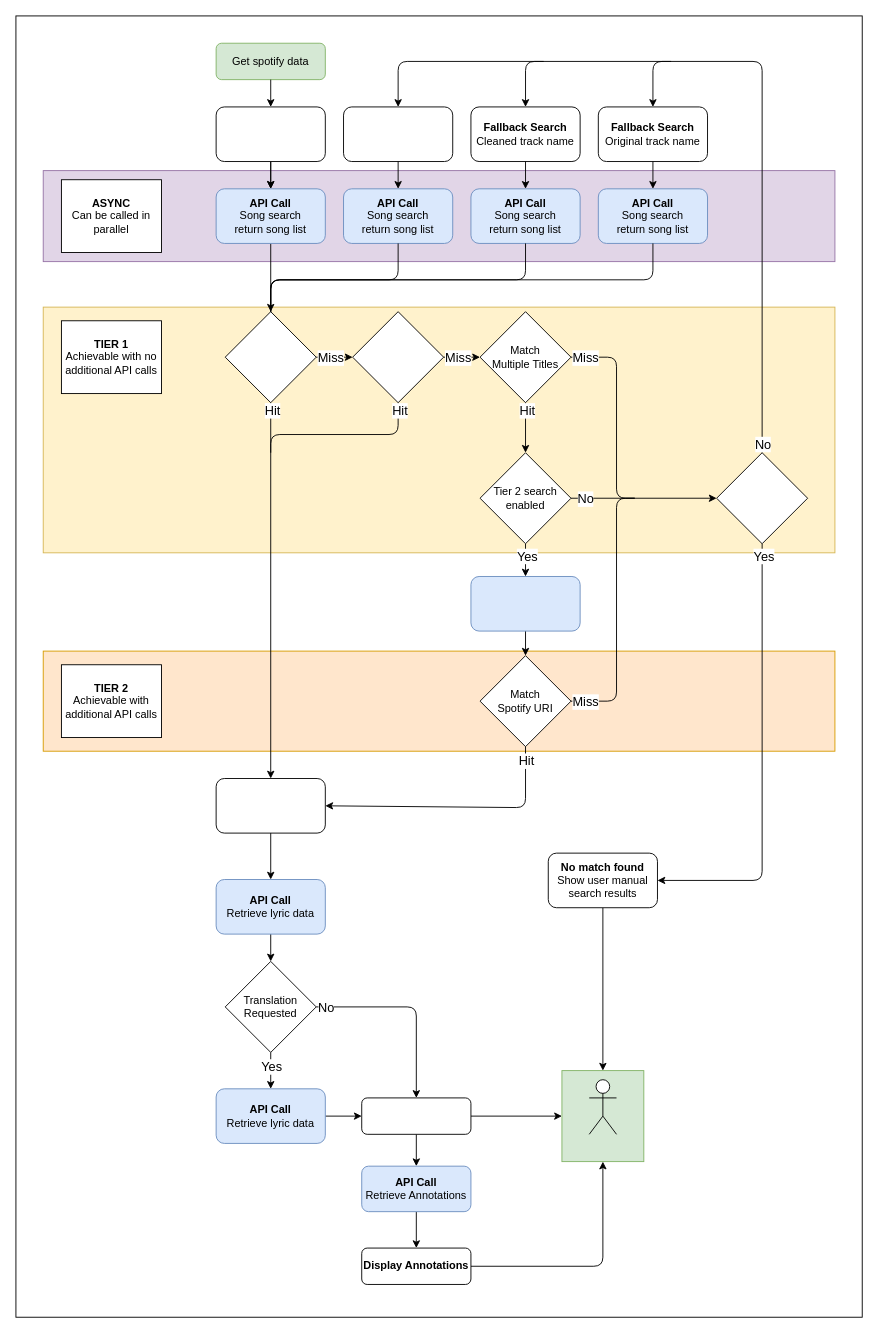
This 878x1333 diagram has some shape labels left out. Here are the shapes that lost their labels. From the top down, the centre of each, then its label:
At pixel 270 134: "Search Cleaned track name Artist name".
At pixel 398 134: "Fallback Search Original track name Artist name".
At pixel 270 357: "Match Title AND Artist".
At pixel 398 357: "Match Unique Title".
At pixel 762 498: "Reached max fallback level".
At pixel 525 603: "API Call Retrieve song details".
At pixel 270 805: "Match accepted!".
At pixel 416 1115: "Display Lyrics".
At pixel 602 1106: "Music Enjoyer".
